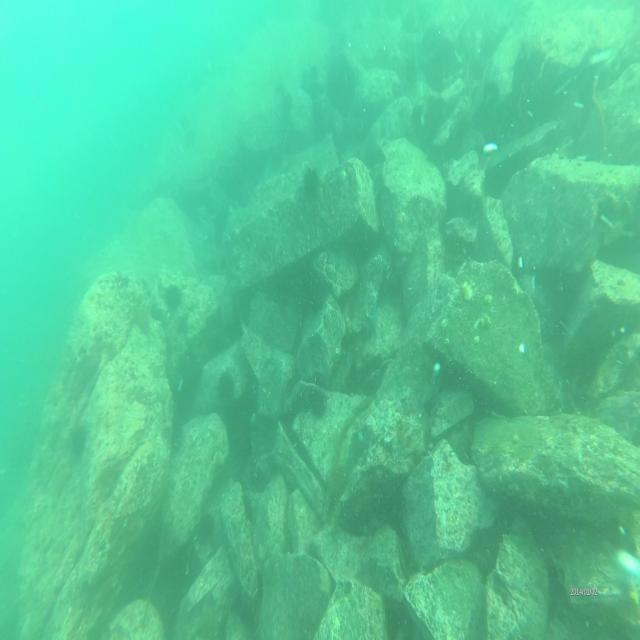echinus: (210, 361, 240, 414), (299, 159, 326, 208), (65, 415, 91, 465), (306, 380, 334, 421), (160, 281, 184, 315)
